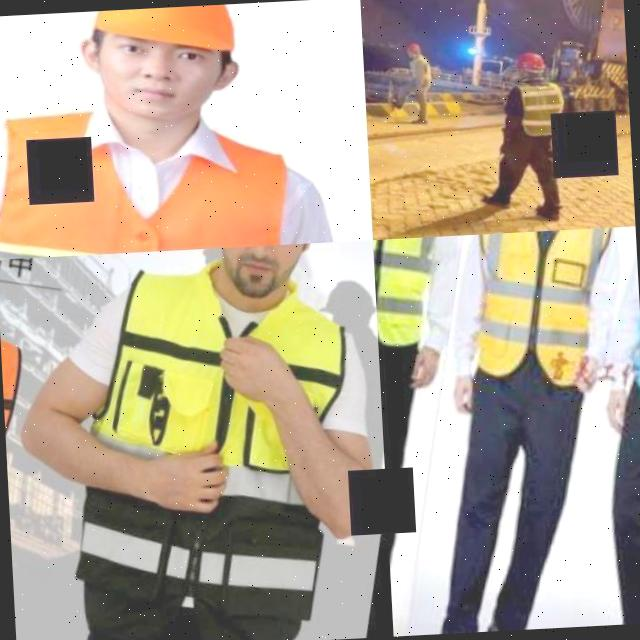vest: (70, 241, 373, 529), (0, 74, 340, 260), (447, 227, 632, 403), (373, 236, 459, 354), (502, 77, 576, 152)
